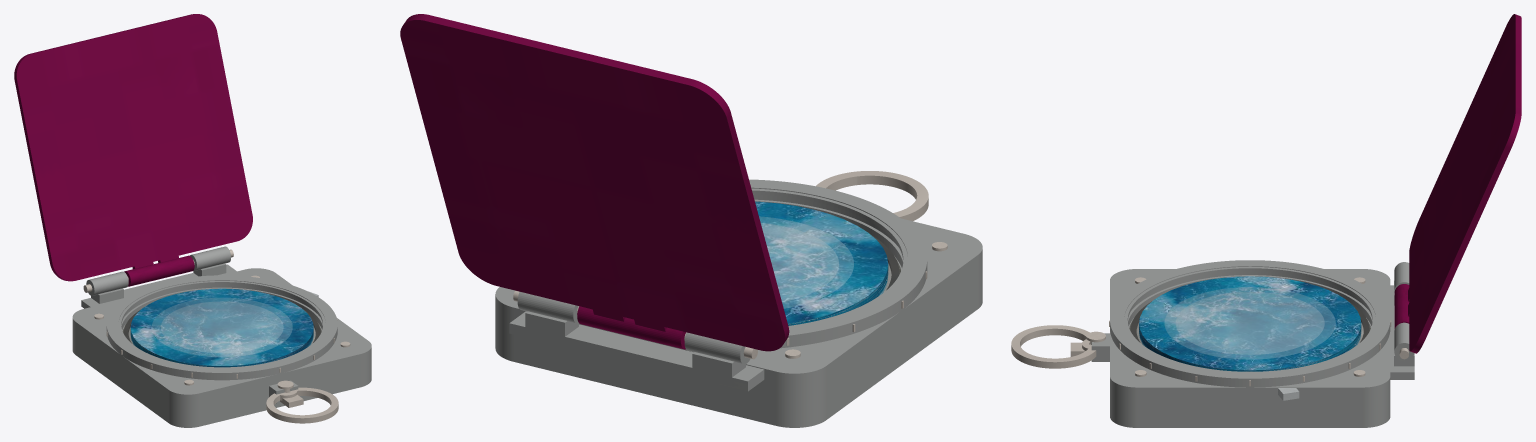
The model's file is pictureX_0611_compass__0115.glb.
3 renders of one model, left to right at view 1: azimuth 30°, elevation 25°; view 2: azimuth 150°, elevation 25°; view 3: azimuth 270°, elevation 25°, orthographic. The views are drawn at different scales.
Visible parts, largest first — view 1: cover::cover_plate, case::case_shell, case::fluid_fill, bezel::bezel_ring, case::capsule_bowl, hanging_ring::ring_loop, cover::cover_knuckle, case::hinge_knuckle_0, case::hinge_knuckle_1, case::hinge_bridge; view 2: cover::cover_plate, case::case_shell, case::fluid_fill, bezel::bezel_ring, case::capsule_bowl, case::hinge_bridge, hanging_ring::ring_loop, cover::cover_knuckle, case::hinge_knuckle_0, case::hinge_knuckle_1, case::hinge_post_0, case::hinge_post_1; view 3: case::case_shell, case::fluid_fill, cover::cover_plate, bezel::bezel_ring, case::capsule_bowl, hanging_ring::ring_loop, case::hinge_bridge, cover::cover_knuckle, case::hinge_knuckle_1.
Part boxes in pixels (<box>): cover::cover_plate: <box>14,14,252,281</box>; case::case_shell: <box>72,268,371,427</box>; case::fluid_fill: <box>130,288,313,367</box>; bezel::bezel_ring: <box>106,275,337,380</box>; case::capsule_bowl: <box>129,298,315,356</box>; hanging_ring::ring_loop: <box>266,387,338,423</box>; cover::cover_knuckle: <box>124,255,194,286</box>; case::hinge_knuckle_0: <box>86,271,128,295</box>; case::hinge_knuckle_1: <box>190,246,231,270</box>; case::hinge_bridge: <box>81,264,236,308</box>; cover::cover_plate: <box>400,14,789,351</box>; case::case_shell: <box>495,199,982,427</box>; case::fluid_fill: <box>755,201,888,325</box>; bezel::bezel_ring: <box>749,179,927,348</box>; case::capsule_bowl: <box>759,216,891,308</box>; case::hinge_bridge: <box>509,311,764,391</box>; hanging_ring::ring_loop: <box>816,171,928,221</box>; cover::cover_knuckle: <box>577,306,685,349</box>; case::hinge_knuckle_0: <box>684,332,750,364</box>; case::hinge_knuckle_1: <box>517,292,578,323</box>; case::hinge_post_0: <box>692,352,745,377</box>; case::hinge_post_1: <box>525,311,578,336</box>; case::case_shell: <box>1110,269,1390,427</box>; case::fluid_fill: <box>1139,276,1361,371</box>; cover::cover_plate: <box>1408,14,1521,353</box>; bezel::bezel_ring: <box>1110,260,1390,387</box>; case::capsule_bowl: <box>1137,287,1363,359</box>; hanging_ring::ring_loop: <box>1011,325,1096,368</box>; case::hinge_bridge: <box>1390,285,1414,379</box>; cover::cover_knuckle: <box>1394,284,1409,328</box>; case::hinge_knuckle_1: <box>1394,322,1414,361</box>.
Size of the model in its own units: 0.0913 by 0.1036 by 0.1574.
51 materials, 10 textured.
